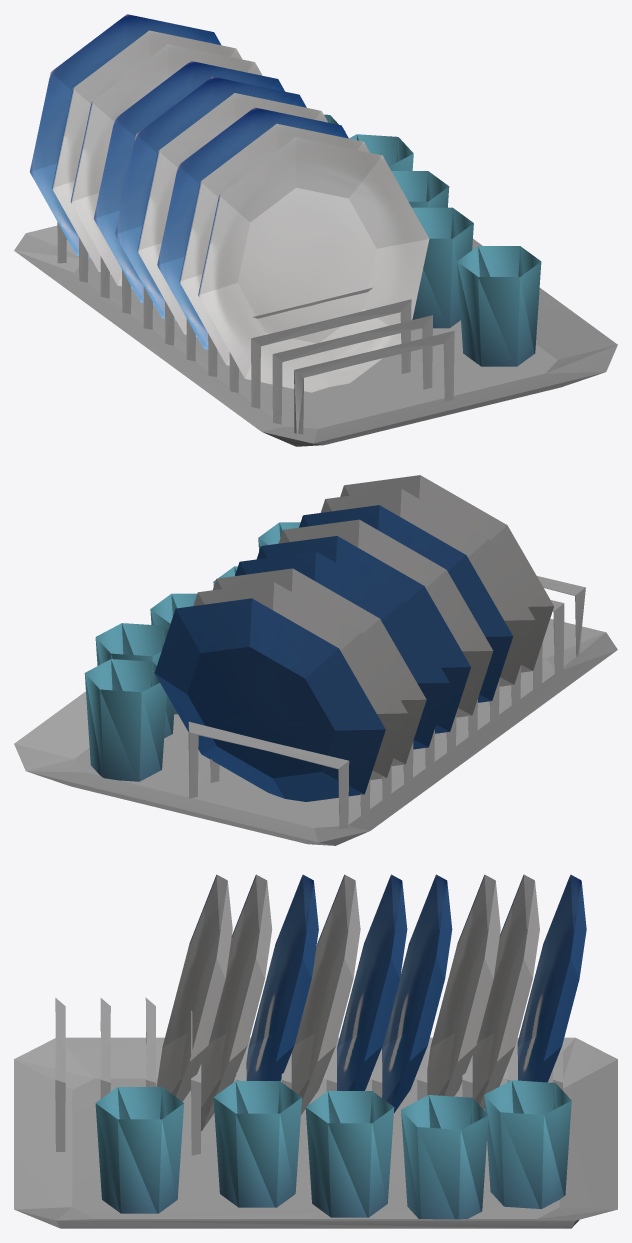
The model's file is escorredor.glb.
3 renders of one model, top to bottom at view 1: azimuth 30°, elevation 25°; view 2: azimuth 150°, elevation 25°; view 3: azimuth 270°, elevation 25°, orthographic. The views are drawn at different scales.
Visible parts, largest first — view 1: escorredor; view 2: escorredor; view 3: escorredor.
Boxes of the visible parts, x1,y1,x2,y2 form: escorredor: (14,14,617,446); escorredor: (14,475,617,845); escorredor: (14,874,617,1228).
Size of the model in its own units: 0.4488 by 0.28 by 0.6264.
1 material, 1 textured.
